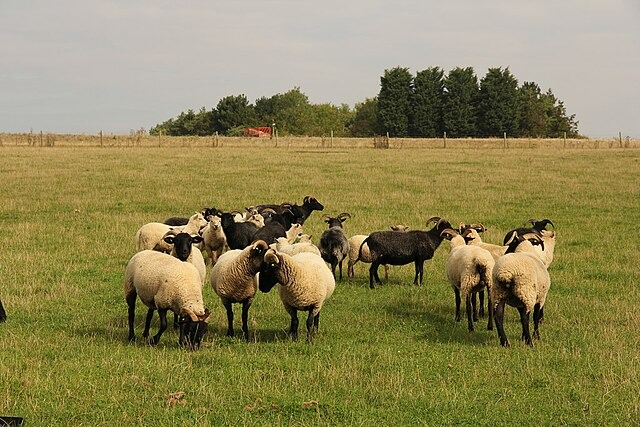grazing: (124, 250, 209, 348)
standing: (257, 246, 333, 336), (492, 237, 551, 347), (363, 217, 457, 286), (441, 223, 495, 335), (210, 244, 267, 338)
